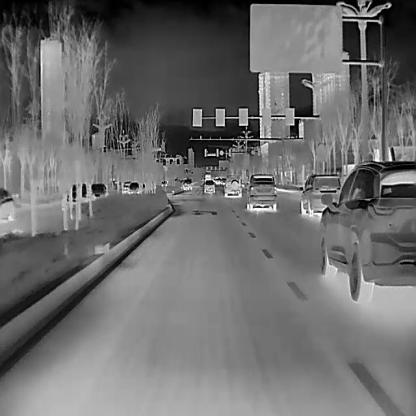car: (319, 159, 415, 305), (299, 173, 341, 214), (245, 173, 276, 210), (66, 183, 106, 202), (223, 174, 240, 196), (128, 181, 139, 195), (203, 180, 215, 192)
